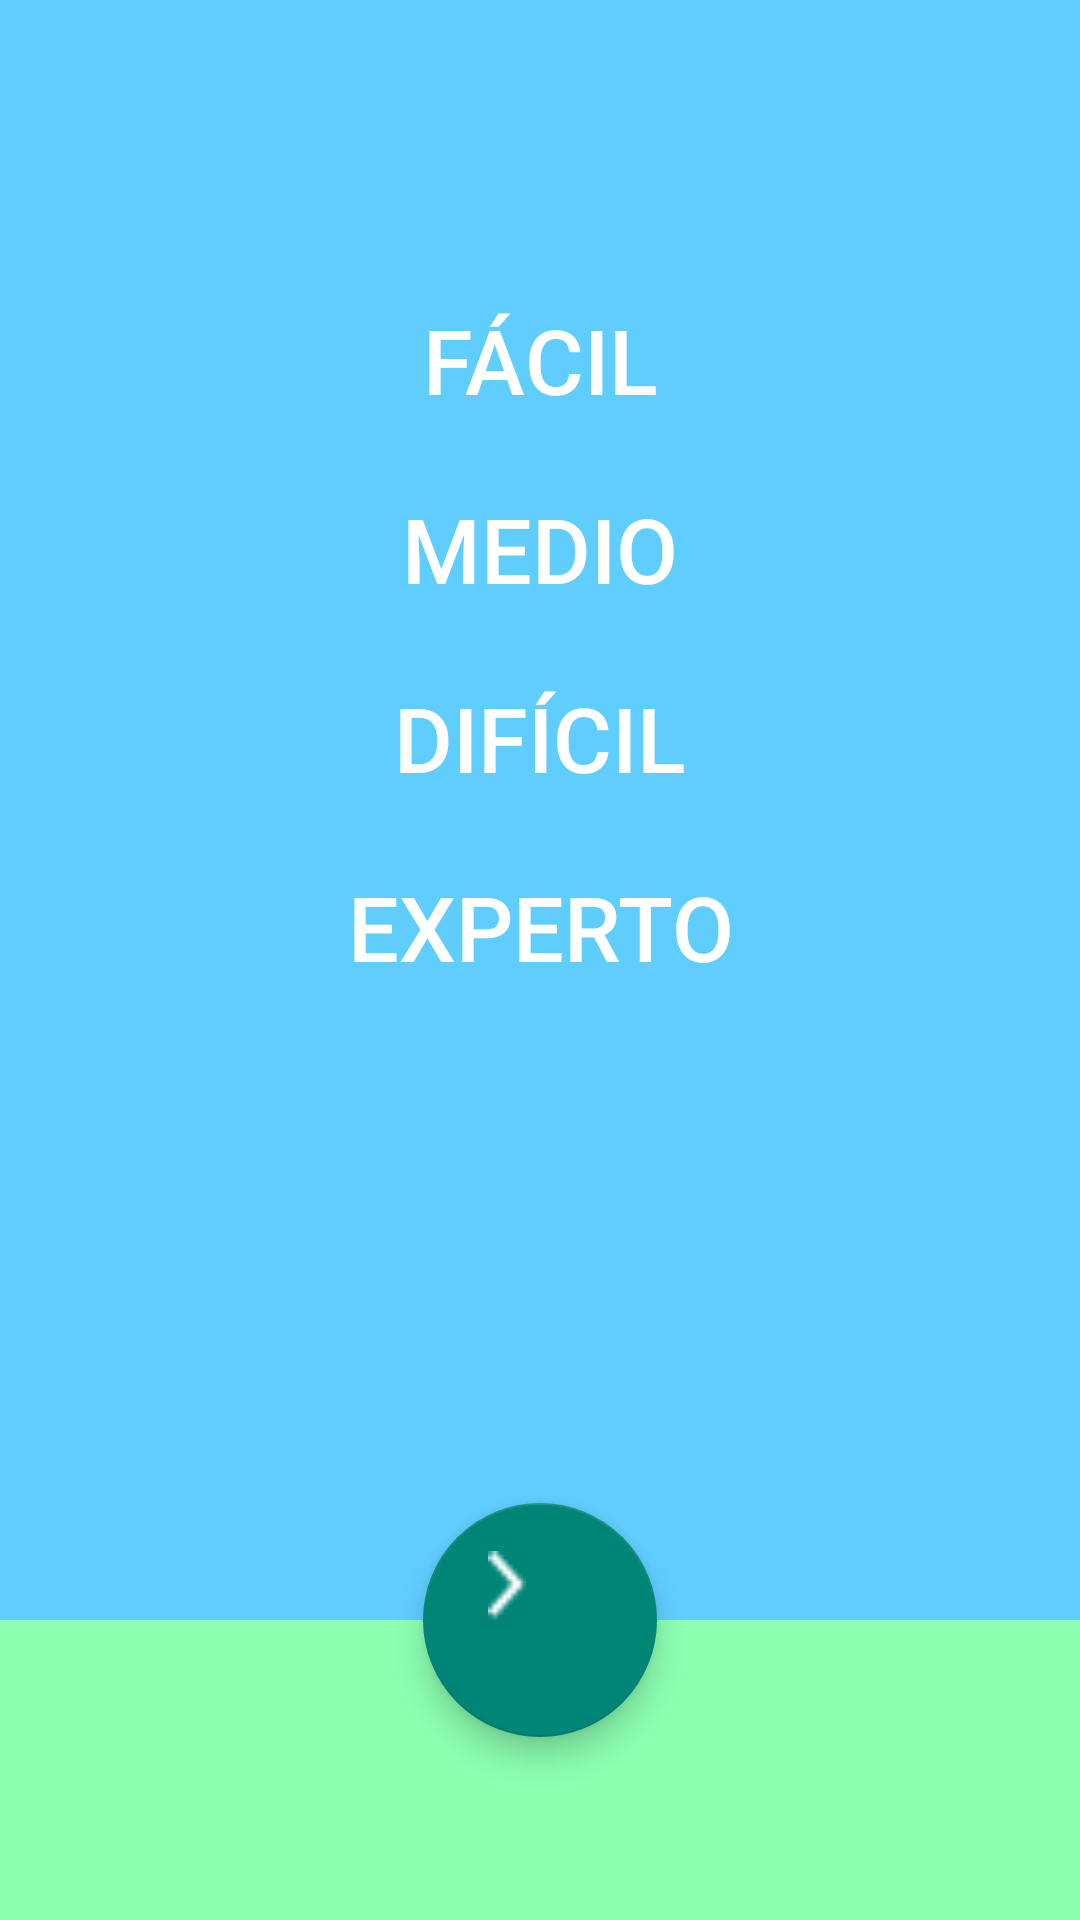

Where to tap for icons on this 1080w x 1920h app screen, as [x,y]:
caret forward: [540,1620]
